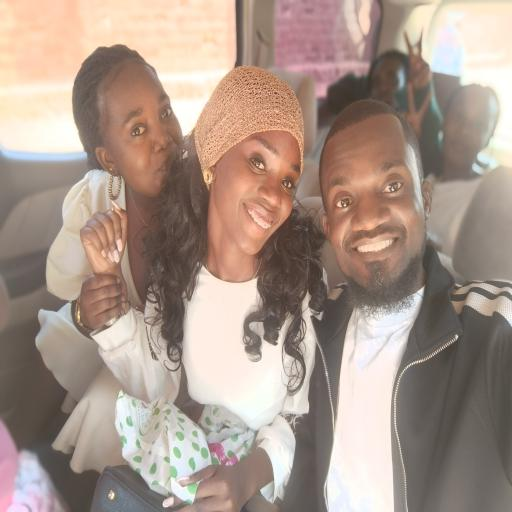MATTHIEU: (318, 99, 436, 307)
